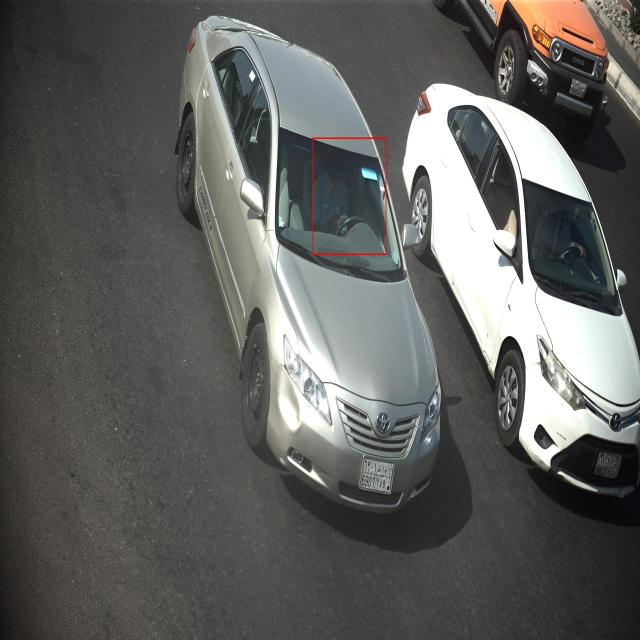windshield: (270, 122, 404, 283), (518, 174, 622, 314)
